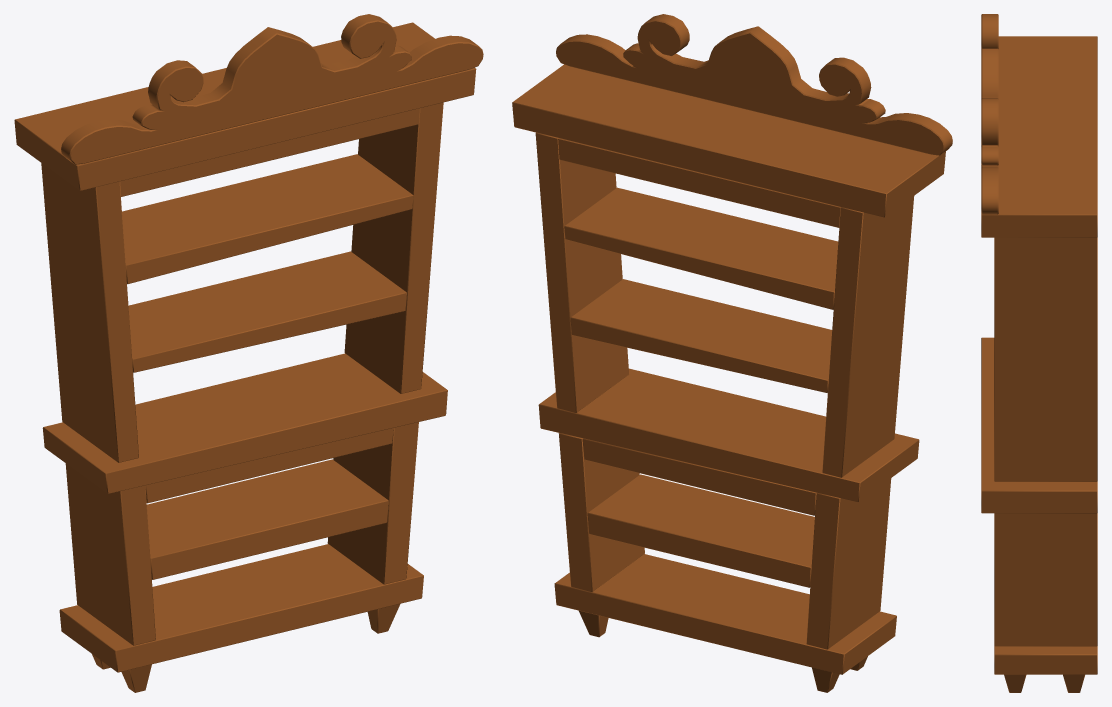
The model's file is Bookcase2.fbx.
3 views of the same model, side by side, from view 1: azimuth 30°, elevation 25°; view 2: azimuth 150°, elevation 25°; view 3: azimuth 270°, elevation 25° (orthographic). The views are drawn at different scales.
Visible parts, largest first — view 1: Bookcase2; view 2: Bookcase2; view 3: Bookcase2.
Part boxes in pixels (x1,y1,x2,y2): Bookcase2: [14, 14, 483, 692]; Bookcase2: [512, 14, 952, 692]; Bookcase2: [981, 14, 1097, 692].
Bounding box in the file's own units: 1.78 × 2.63 × 0.4732.
